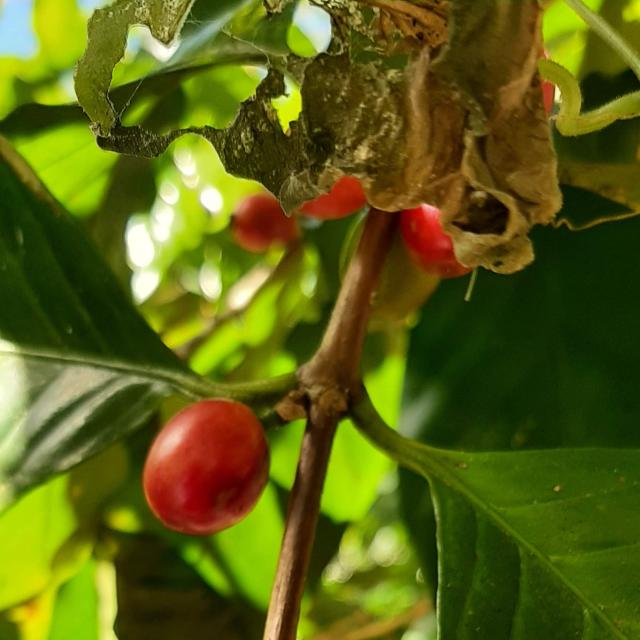Ripe: (142, 400, 269, 536), (399, 203, 471, 279)
